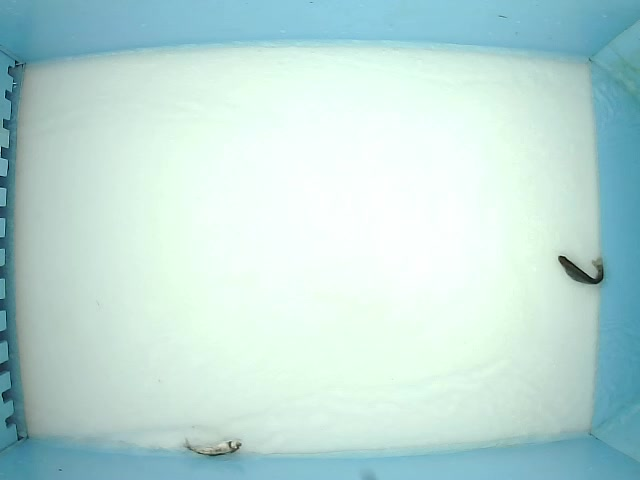fish: (556, 254, 605, 286), (179, 434, 243, 458)
